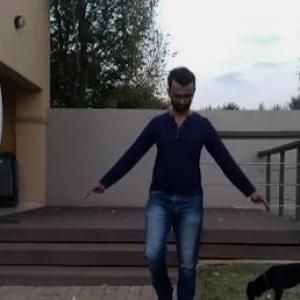land: (88, 84, 243, 299)
